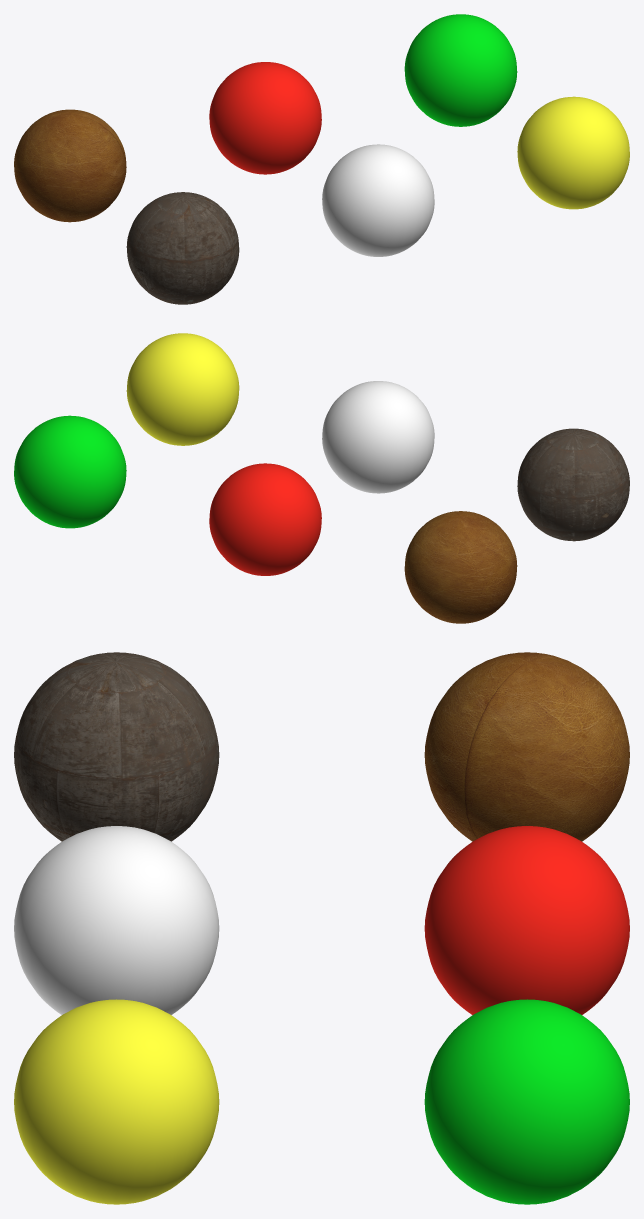
File: pbr.glb
3 views of the same model, one above another, from view 1: azimuth 30°, elevation 25°; view 2: azimuth 150°, elevation 25°; view 3: azimuth 270°, elevation 25° (orthographic). The views are drawn at different scales.
Parts seen in each view (by area): view 1: Sphere, Sphere.003, Sphere.004, Sphere.005, Sphere.006, Sphere.007; view 2: Sphere, Sphere.003, Sphere.004, Sphere.005, Sphere.006, Sphere.007; view 3: Sphere.005, Sphere.006, Sphere, Sphere.003, Sphere.004, Sphere.007.
Part boxes in pixels (<box>): Sphere: <box>322,144,434,256</box>; Sphere.003: <box>209,62,321,174</box>; Sphere.004: <box>126,192,239,304</box>; Sphere.005: <box>517,96,629,209</box>; Sphere.006: <box>404,14,517,126</box>; Sphere.007: <box>14,109,126,222</box>; Sphere: <box>322,381,434,493</box>; Sphere.003: <box>209,463,321,575</box>; Sphere.004: <box>517,428,629,541</box>; Sphere.005: <box>126,333,239,445</box>; Sphere.006: <box>14,415,126,528</box>; Sphere.007: <box>404,511,517,623</box>; Sphere.005: <box>14,999,219,1204</box>; Sphere.006: <box>424,999,629,1204</box>; Sphere: <box>14,826,219,1014</box>; Sphere.003: <box>424,826,629,1014</box>; Sphere.004: <box>14,652,219,841</box>; Sphere.007: <box>424,652,629,841</box>.
Size of what is drawn, in the model's own units: 5 by 1 by 3.
6 materials, 2 textured.
